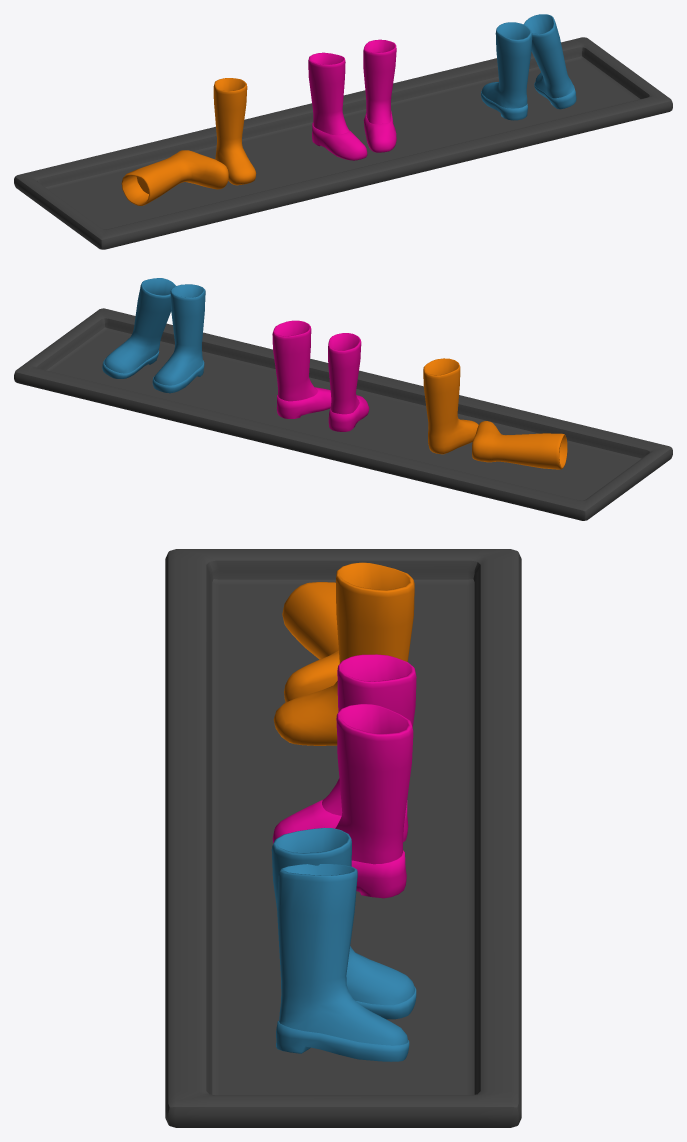
The model's file is bacShoes.fbx.
The picture shows the model from 3 angles, top to bottom: view 1: azimuth 30°, elevation 25°; view 2: azimuth 150°, elevation 25°; view 3: azimuth 270°, elevation 25°; orthographic projection. The views are drawn at different scales.
Visible parts, largest first — view 1: bacShoes; view 2: bacShoes; view 3: bacShoes.
Boxes of the visible parts, bbox=[...] form: bacShoes: bbox=[14, 14, 672, 249]; bacShoes: bbox=[14, 278, 672, 520]; bacShoes: bbox=[165, 549, 521, 1127].
Bounding box in the file's own units: 2.33 × 0.3471 × 0.6265.
